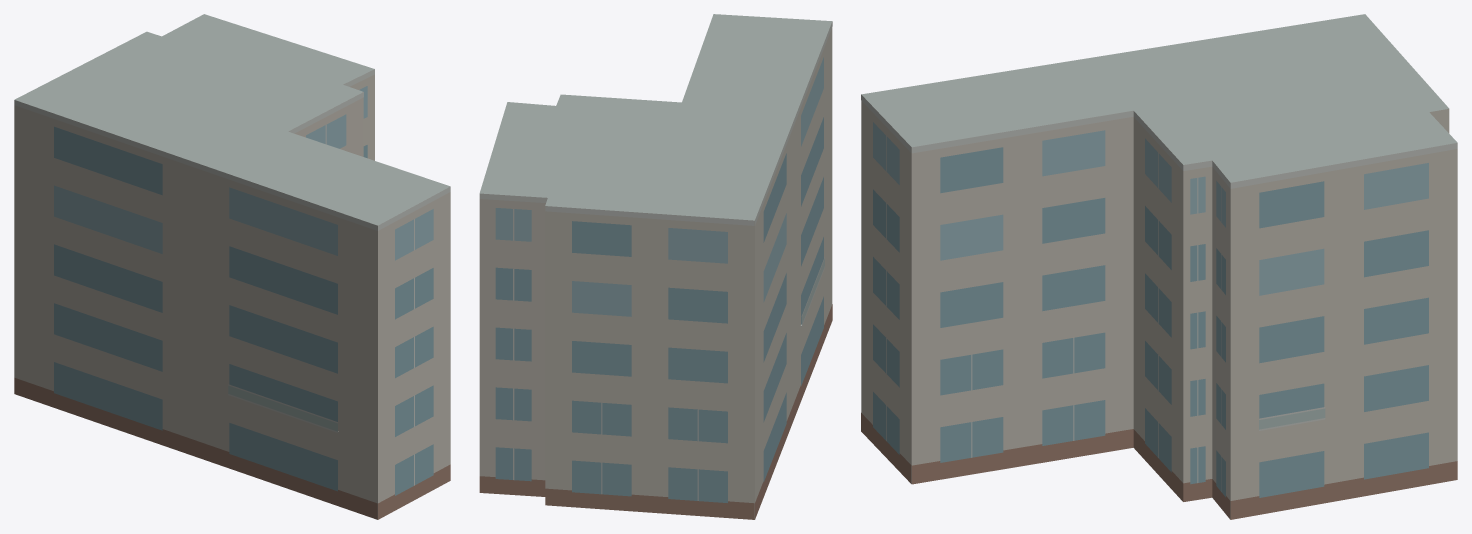
File: survey-upis-32592901.glb
3 views of the same model, side by side, from view 1: azimuth 30°, elevation 25°; view 2: azimuth 150°, elevation 25°; view 3: azimuth 270°, elevation 25° (orthographic). The views are drawn at different scales.
Parts seen in each view (by area): view 1: survey-upis-32592901.tmp; view 2: survey-upis-32592901.tmp; view 3: survey-upis-32592901.tmp.
Part boxes in pixels (x1=…): survey-upis-32592901.tmp: x1=14, y1=14, x2=450, y2=519; survey-upis-32592901.tmp: x1=479, y1=14, x2=832, y2=519; survey-upis-32592901.tmp: x1=861, y1=14, x2=1457, y2=519.
Bounding box in the file's own units: 14.51 × 13.5 × 21.66.
